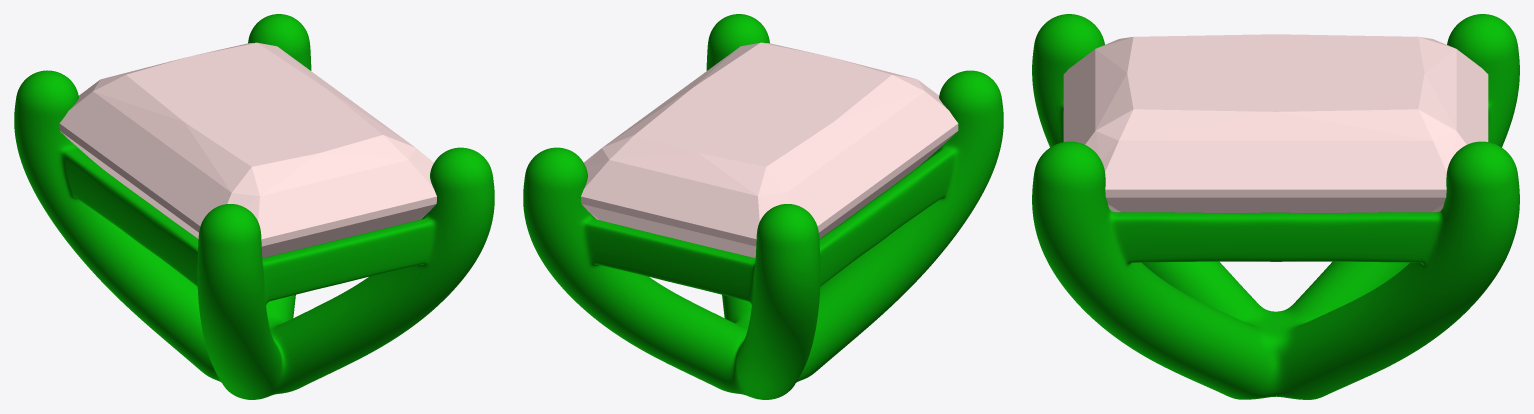
3 renders of one model, left to right at view 1: azimuth 30°, elevation 25°; view 2: azimuth 150°, elevation 25°; view 3: azimuth 270°, elevation 25°, orthographic. The views are drawn at different scales.
Parts seen in each view (by area): view 1: Metal01, Diamond_Radiant; view 2: Metal01, Diamond_Radiant; view 3: Metal01, Diamond_Radiant.
Part boxes in pixels (x1,y1,x2,y2): Metal01: (14,14,494,399); Diamond_Radiant: (59,42,436,258); Metal01: (523,14,1003,399); Diamond_Radiant: (581,42,958,258); Metal01: (1032,14,1519,399); Diamond_Radiant: (1063,34,1488,212).
Size of the model in its own units: 6.03 by 5.52 by 7.81.
